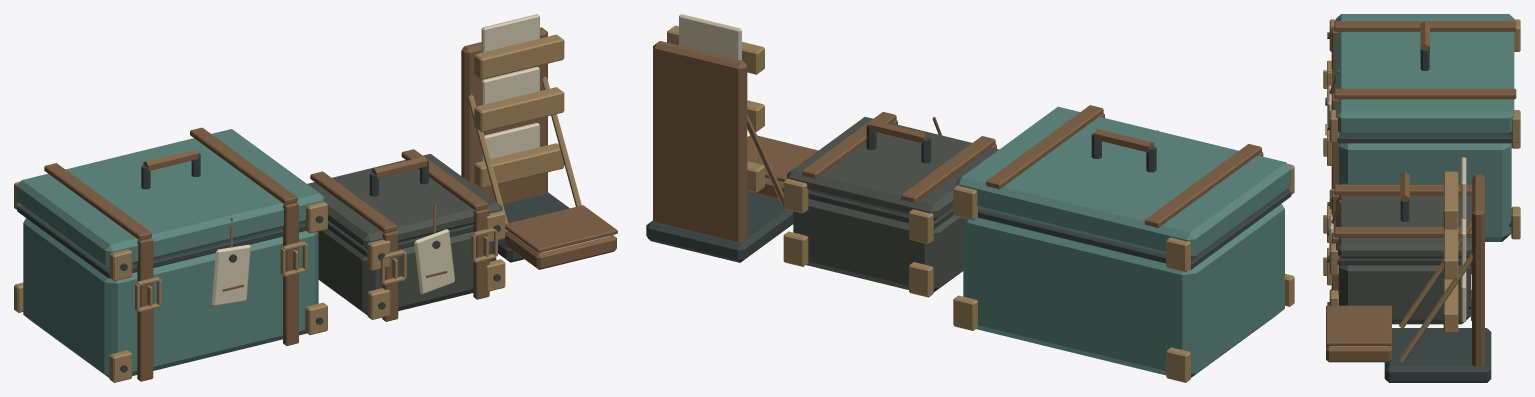
Rendered from atlas_returns.glb.
3 renders of one model, left to right at view 1: azimuth 30°, elevation 25°; view 2: azimuth 150°, elevation 25°; view 3: azimuth 270°, elevation 25°, orthographic. The views are drawn at different scales.
Parts seen in each view (by area): view 1: atlas_returns_Weathered_Teal_Paint, atlas_returns_Warm_Brown_Leather, atlas_returns_Aged_Bronze_Hardware, atlas_returns_Charcoal_Canvas, atlas_returns_Ivory_Tag_Paper, atlas_returns_Dark_Locker_Metal; view 2: atlas_returns_Weathered_Teal_Paint, atlas_returns_Warm_Brown_Leather, atlas_returns_Charcoal_Canvas, atlas_returns_Aged_Bronze_Hardware, atlas_returns_Dark_Locker_Metal, atlas_returns_Ivory_Tag_Paper; view 3: atlas_returns_Weathered_Teal_Paint, atlas_returns_Warm_Brown_Leather, atlas_returns_Charcoal_Canvas, atlas_returns_Dark_Locker_Metal, atlas_returns_Aged_Bronze_Hardware, atlas_returns_Ivory_Tag_Paper.
Boxes of the visible parts, left/top/right/bottom form: atlas_returns_Weathered_Teal_Paint: left=17, top=129, right=324, bottom=378; atlas_returns_Warm_Brown_Leather: left=44, top=27, right=617, bottom=381; atlas_returns_Aged_Bronze_Hardware: left=14, top=34, right=581, bottom=382; atlas_returns_Charcoal_Canvas: left=307, top=154, right=502, bottom=315; atlas_returns_Ivory_Tag_Paper: left=212, top=14, right=611, bottom=306; atlas_returns_Dark_Locker_Metal: left=17, top=153, right=569, bottom=372; atlas_returns_Weathered_Teal_Paint: left=956, top=106, right=1291, bottom=377; atlas_returns_Warm_Brown_Leather: left=653, top=41, right=1263, bottom=242; atlas_returns_Charcoal_Canvas: left=787, top=117, right=998, bottom=292; atlas_returns_Aged_Bronze_Hardware: left=667, top=25, right=1294, bottom=382; atlas_returns_Dark_Locker_Metal: left=646, top=124, right=1291, bottom=269; atlas_returns_Ivory_Tag_Paper: left=679, top=14, right=783, bottom=183; atlas_returns_Weathered_Teal_Paint: left=1336, top=14, right=1514, bottom=241; atlas_returns_Warm_Brown_Leather: left=1325, top=21, right=1516, bottom=367; atlas_returns_Charcoal_Canvas: left=1336, top=183, right=1471, bottom=324; atlas_returns_Dark_Locker_Metal: left=1325, top=32, right=1512, bottom=382; atlas_returns_Aged_Bronze_Hardware: left=1323, top=19, right=1520, bottom=362; atlas_returns_Ivory_Tag_Paper: left=1327, top=85, right=1466, bottom=346.
Bounding box in the file's own units: 1.54 × 0.58 × 0.5365.
